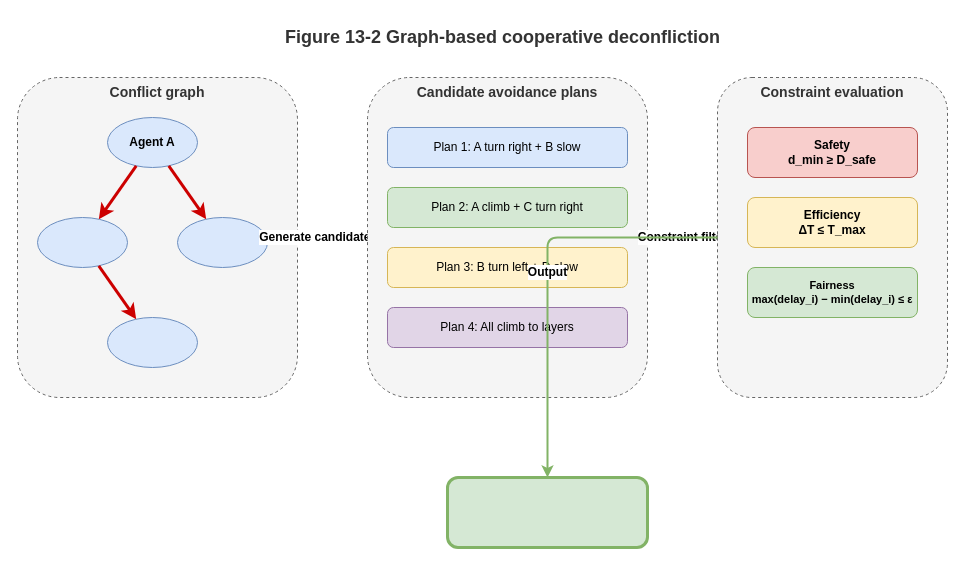
Some shapes in this 965 by 566 pixel diagram are drawn without their labels. Here are the shapes that lost their labels. From the top down, the centre of each, then its label:
At (x=82, y=242): "Agent B".
At (x=222, y=242): "Agent C".
At (x=152, y=342): "Agent D".
At (x=547, y=512): "Optimal joint plan Plan 2 ✓".
